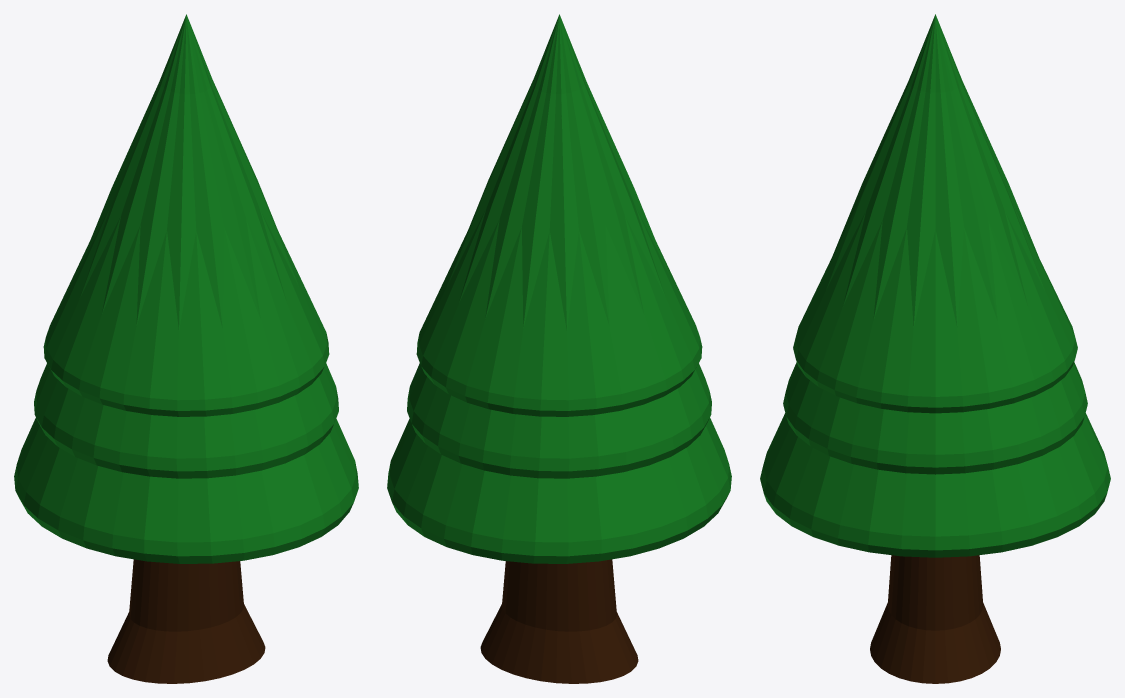
The model's file is fixedtree.fbx.
3 renders of one model, left to right at view 1: azimuth 30°, elevation 25°; view 2: azimuth 150°, elevation 25°; view 3: azimuth 270°, elevation 25°, orthographic.
Visible parts, largest first — view 1: Cylinder.003, Cylinder.001, Cylinder.002, Cone; view 2: Cylinder.003, Cylinder.001, Cylinder.002, Cone; view 3: Cylinder.003, Cylinder.001, Cylinder.002, Cone.
Boxes of the visible parts, x1=… form: Cylinder.003: x1=43, y1=82, x2=329, y2=416; Cylinder.001: x1=14, y1=418, x2=358, y2=563; Cylinder.002: x1=34, y1=14, x2=338, y2=478; Cone: x1=107, y1=559, x2=265, y2=683; Cylinder.003: x1=416, y1=71, x2=702, y2=416; Cylinder.001: x1=387, y1=418, x2=731, y2=563; Cylinder.002: x1=407, y1=14, x2=711, y2=478; Cone: x1=480, y1=559, x2=638, y2=683; Cylinder.003: x1=793, y1=73, x2=1077, y2=413; Cylinder.001: x1=760, y1=413, x2=1110, y2=557; Cylinder.002: x1=783, y1=14, x2=1087, y2=474; Cone: x1=870, y1=555, x2=1000, y2=683.
Bounding box in the file's own units: 227 × 467 × 234.
